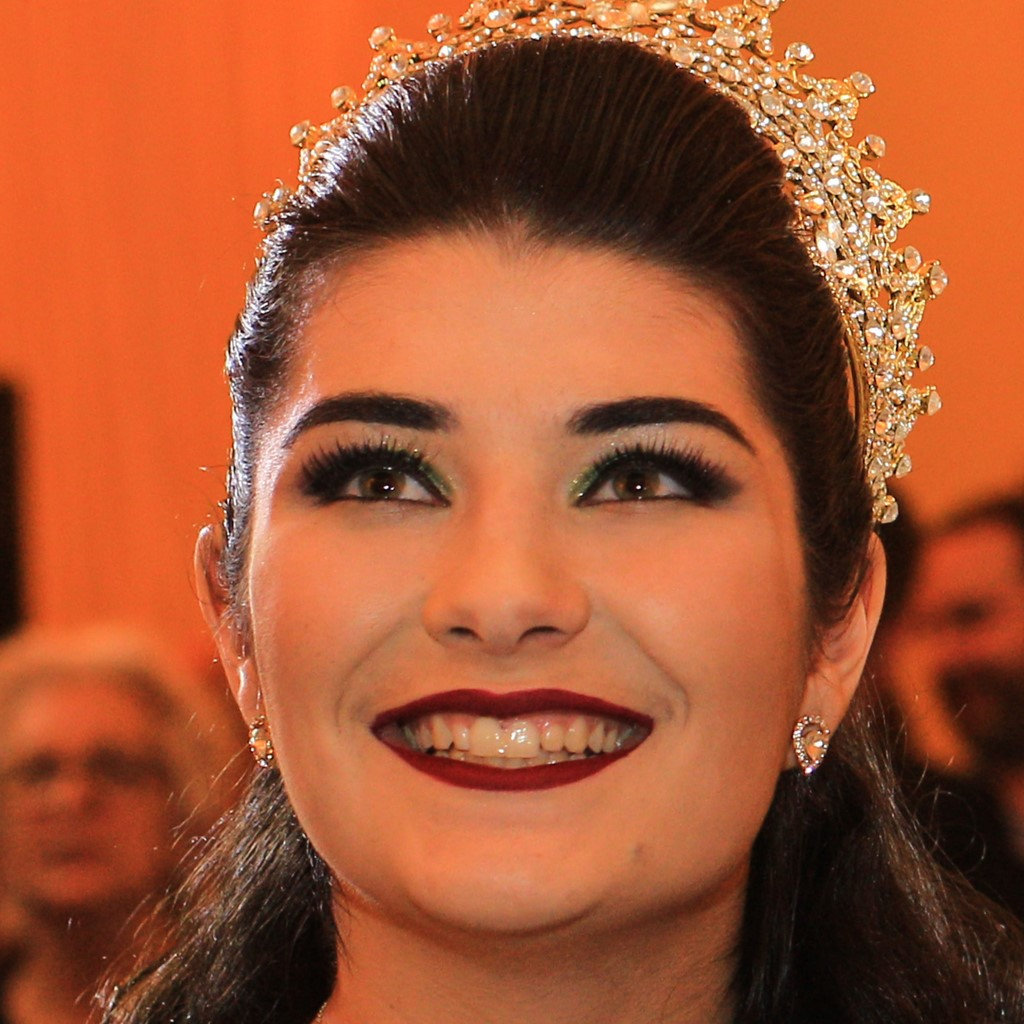sin_mascara: (222, 122, 845, 941)
